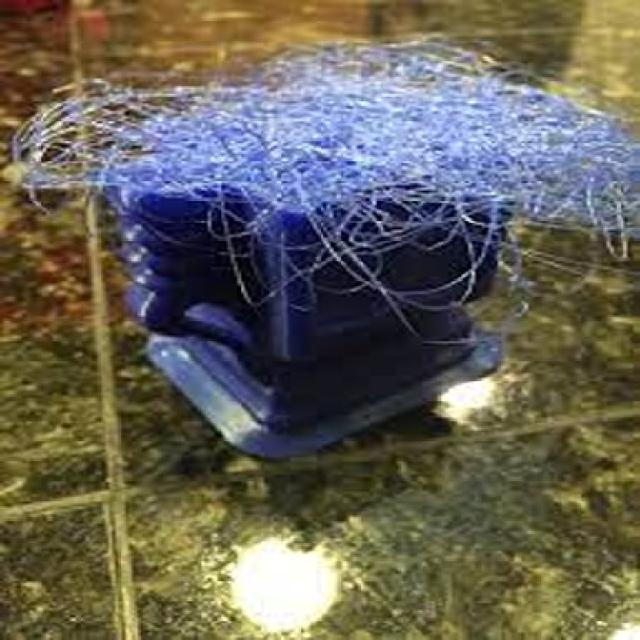spaghetti: (82, 49, 631, 342)
